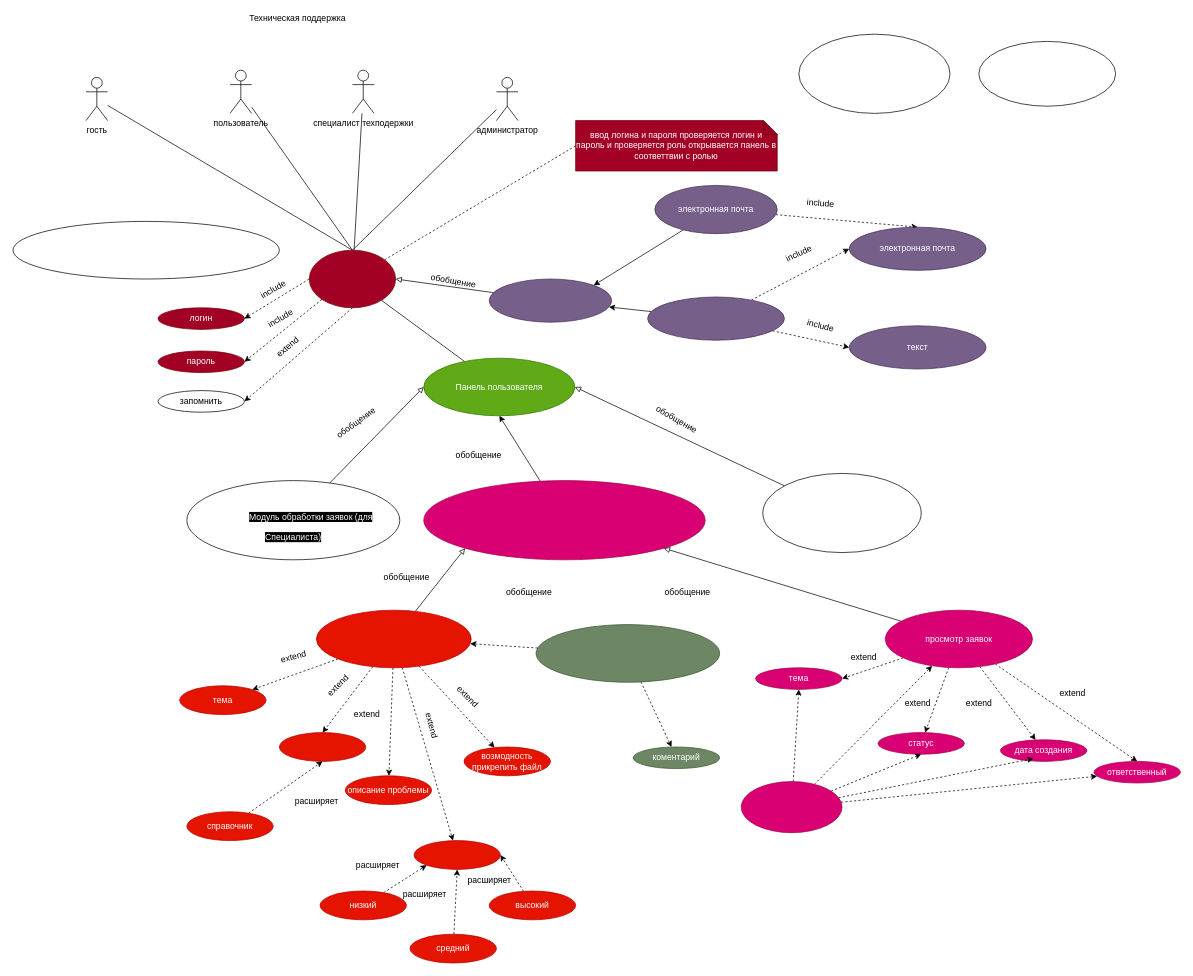
Some shapes in this 1193 by 976 pixel diagram are drawn without their labels. Here are the shapes that lost their labels. From the top down, the box of each, then its label:
(798, 33, 950, 113): Модуль отчетности
(978, 41, 1116, 106): Модуль "База знаний"
(12, 221, 279, 279): Модуль авторизации и регистрации
(309, 249, 396, 308): авторизация
(489, 278, 612, 322): востановление пароля
(647, 296, 784, 340): оброщение к алминистратору
(423, 480, 705, 560): Модуль управления заявками (для Пользователя)
(762, 473, 921, 553): Административный модуль
(316, 609, 471, 668): создание заявок
(535, 624, 720, 682): добавление комментариев
(279, 732, 366, 761): категории
(741, 781, 842, 833): детальный просмотр
(413, 840, 500, 869): приоритет
